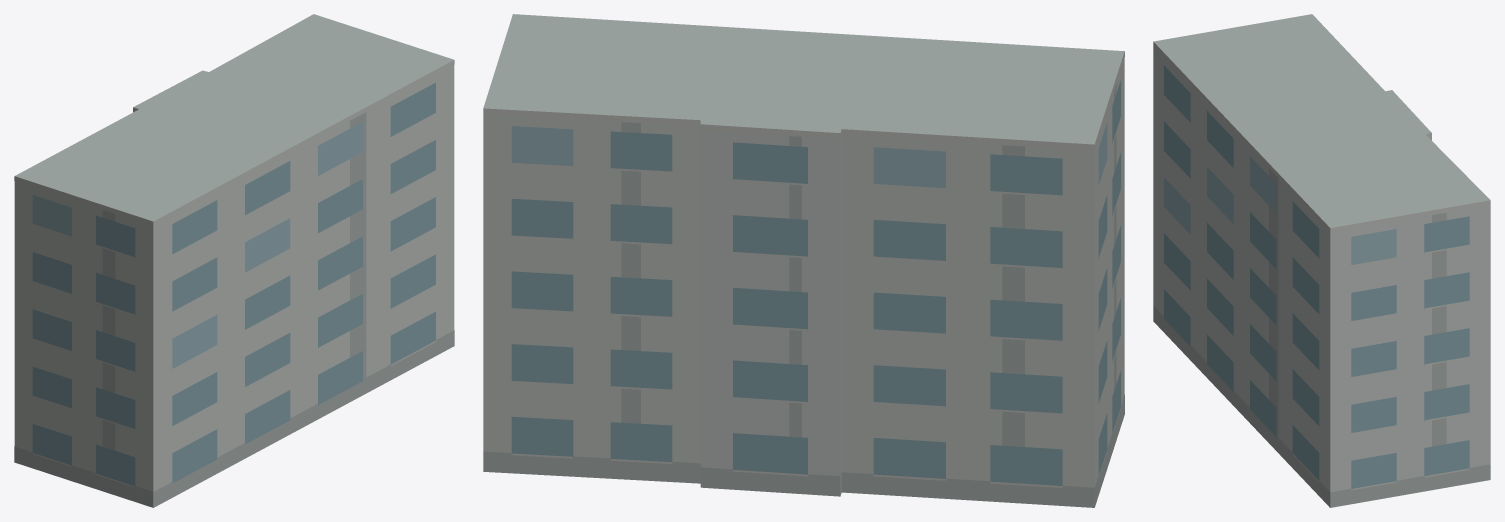
File: survey-upis-32835951.glb
3 renders of one model, left to right at view 1: azimuth 30°, elevation 25°; view 2: azimuth 150°, elevation 25°; view 3: azimuth 270°, elevation 25°, orthographic. The views are drawn at different scales.
Visible parts, largest first — view 1: survey-upis-32835951.tmp; view 2: survey-upis-32835951.tmp; view 3: survey-upis-32835951.tmp.
Boxes of the visible parts, x1,y1,x2,y2 form: survey-upis-32835951.tmp: (14, 14, 454, 507); survey-upis-32835951.tmp: (483, 14, 1124, 507); survey-upis-32835951.tmp: (1153, 14, 1490, 507).
Bounding box in the file's own units: 23.57 × 14.35 × 15.69.
